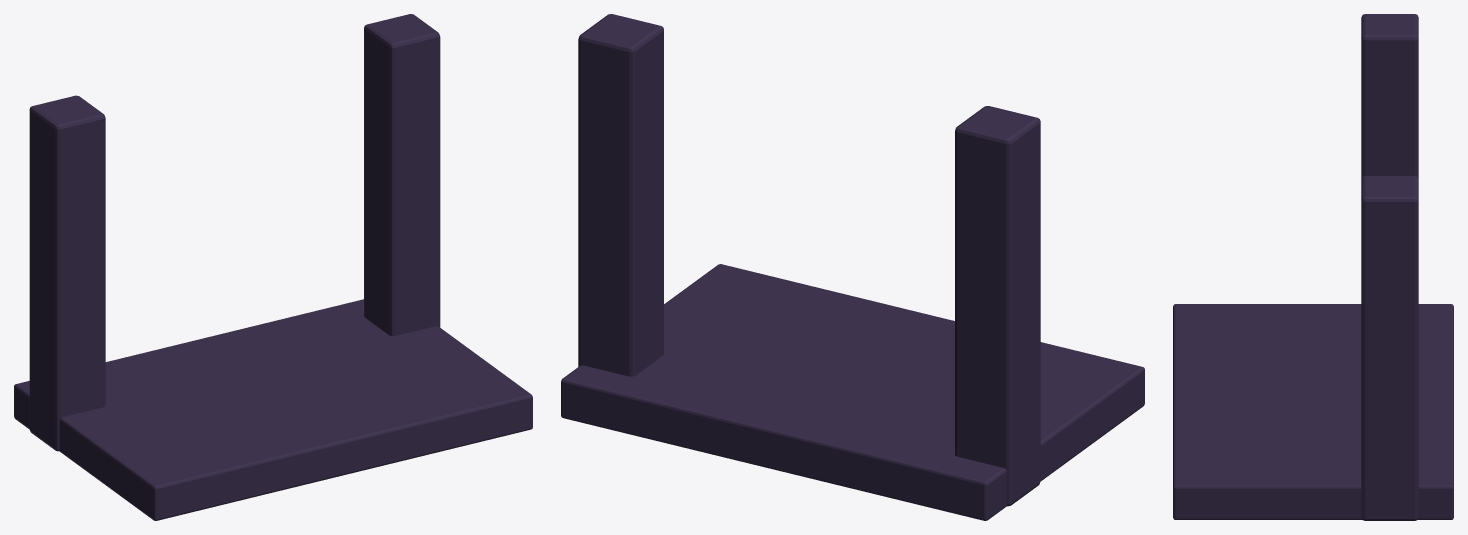
The model's file is Stage_Stage.fbx.
3 views of the same model, side by side, from view 1: azimuth 30°, elevation 25°; view 2: azimuth 150°, elevation 25°; view 3: azimuth 270°, elevation 25° (orthographic). The views are drawn at different scales.
Visible parts, largest first — view 1: StageTop.001; view 2: StageTop.001; view 3: StageTop.001.
Boxes of the visible parts, box(x1,y1,x2,y2) form: StageTop.001: box(14, 14, 532, 520); StageTop.001: box(561, 14, 1144, 520); StageTop.001: box(1173, 14, 1453, 520).
Size of the model in its own units: 3450 by 2800 by 2200.
